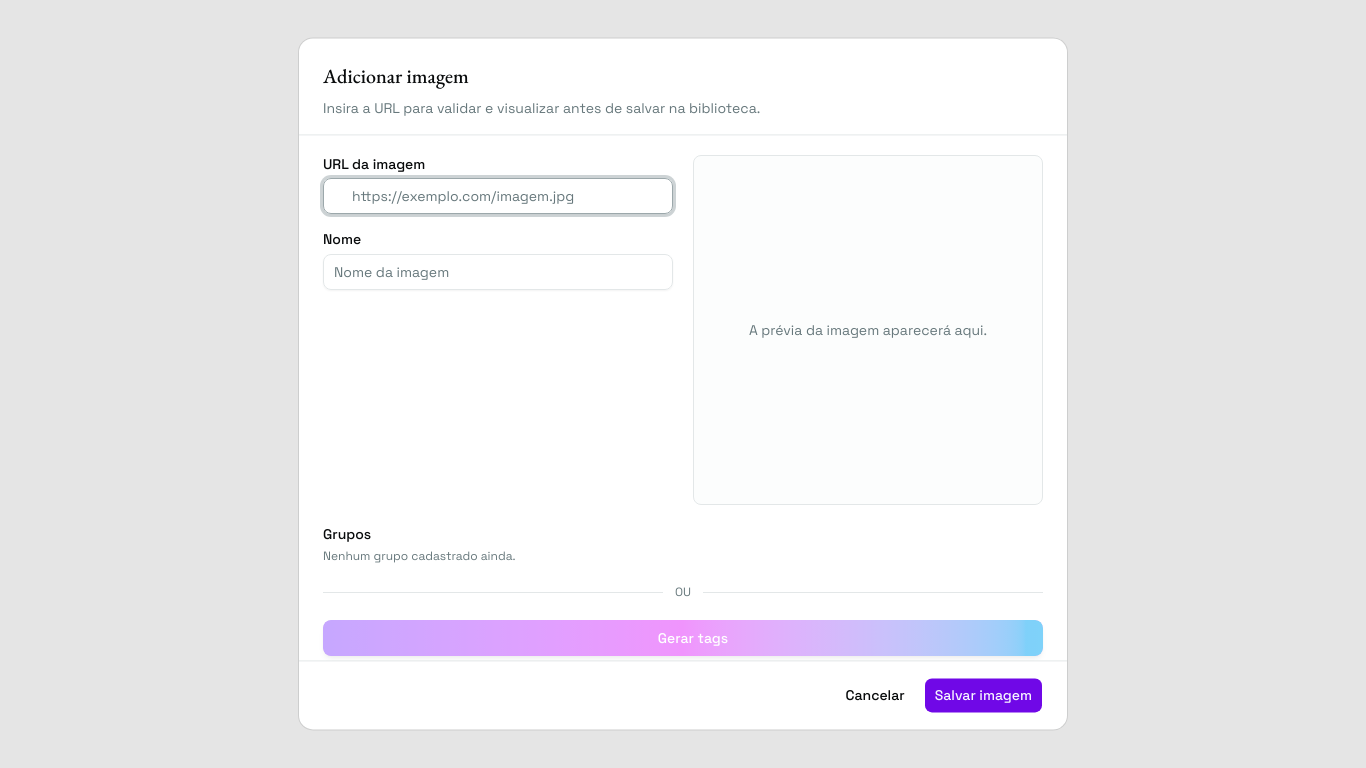
Scenario: AddImageModal › shows validation errors when fields are empty on submit
The image size is (1366, 768).
Check: the dialog is shown, box [299,38,1067,730]
Check: the field labelled "URL da imagem" is shown, box [346,179,672,215]
Click the button "Salvar imagem".
click(983, 696)  # box [924,678,1043,714]
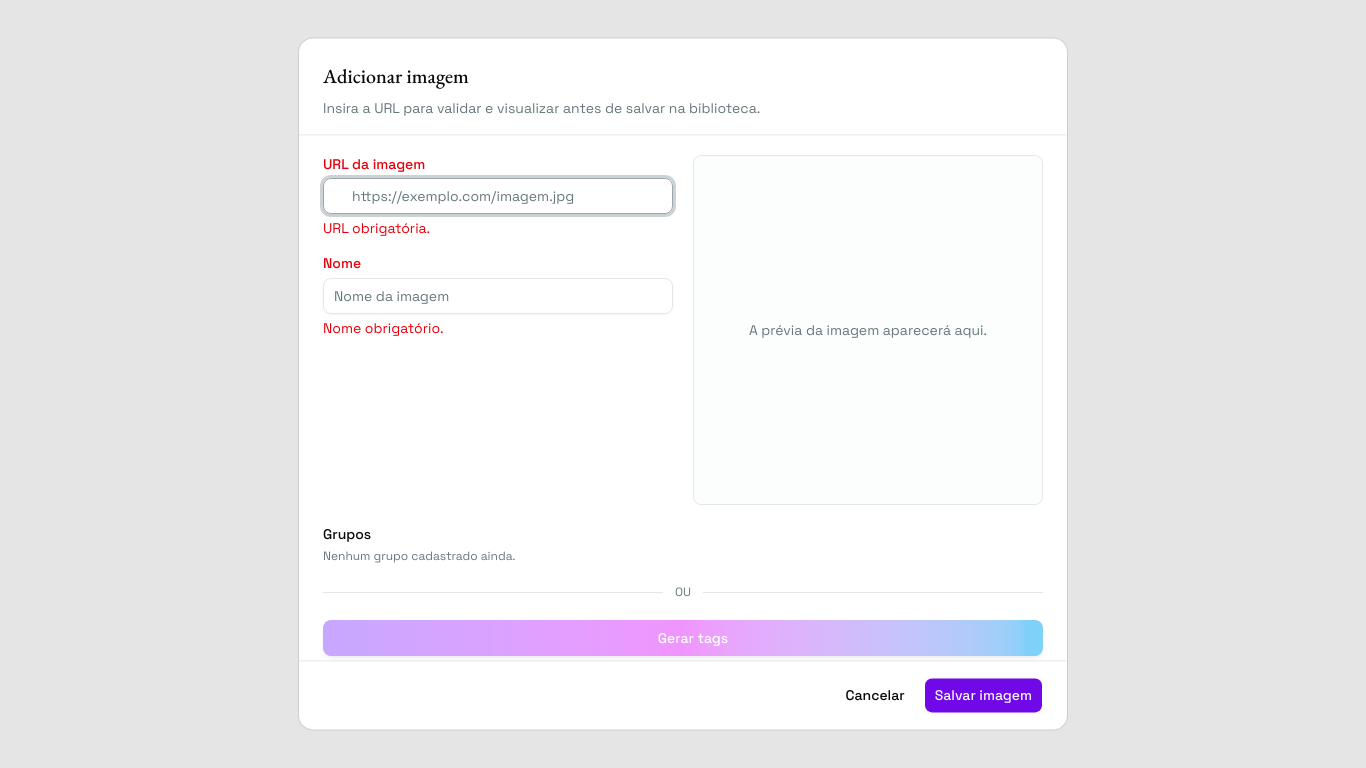
Check: the text "Nome obrigatório." is shown, box [323,319,444,337]
Check: the text "URL obrigatória." is shown, box [323,220,430,238]
